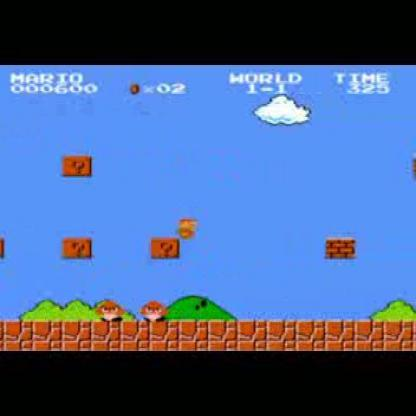Goomba: (94, 296, 128, 326), (138, 295, 166, 321)
